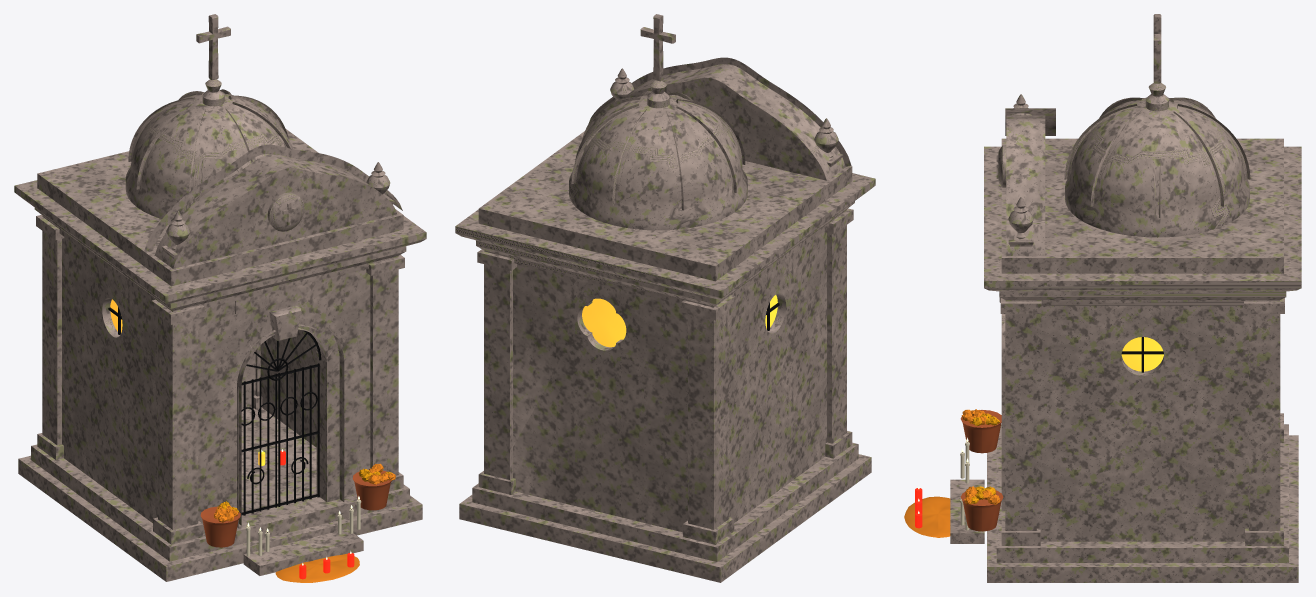
File: w3_bg_mausoleo.glb
3 renders of one model, left to right at view 1: azimuth 30°, elevation 25°; view 2: azimuth 150°, elevation 25°; view 3: azimuth 270°, elevation 25°, orthographic. The views are drawn at different scales.
Visible parts, largest first — view 1: w3_bg_mausoleo; view 2: w3_bg_mausoleo; view 3: w3_bg_mausoleo.
Boxes of the visible parts, bbox=[...] form: w3_bg_mausoleo: bbox=[14, 14, 426, 582]; w3_bg_mausoleo: bbox=[455, 14, 875, 582]; w3_bg_mausoleo: bbox=[904, 14, 1301, 582].
Bounding box in the file's own units: 3.26 × 5.72 × 4.08.
3 materials, 2 textured.
